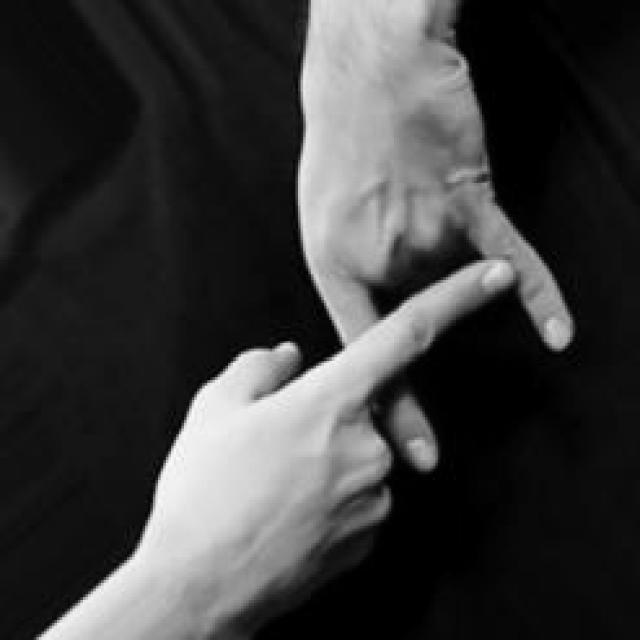H: (133, 63, 580, 640)
